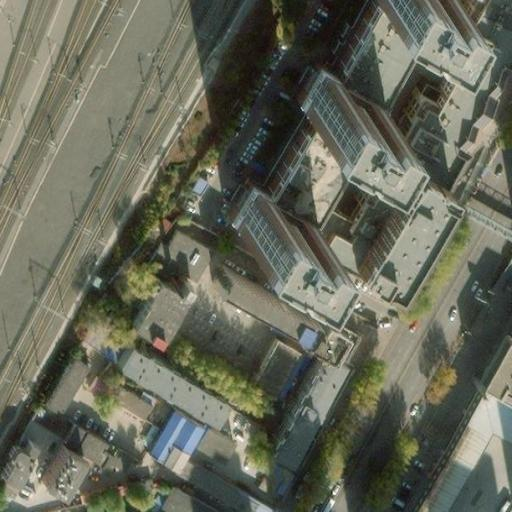building: (400, 381, 512, 512), (192, 250, 331, 349), (347, 171, 440, 295), (262, 111, 355, 220), (107, 331, 220, 413), (337, 1, 426, 105), (248, 341, 326, 447), (225, 185, 309, 258), (293, 67, 375, 138), (172, 445, 258, 509), (184, 420, 267, 481), (241, 325, 301, 396), (120, 267, 181, 333), (142, 402, 199, 465), (36, 431, 92, 483), (139, 225, 189, 267), (40, 356, 80, 407), (90, 433, 127, 474), (148, 487, 205, 512), (106, 383, 145, 415)
